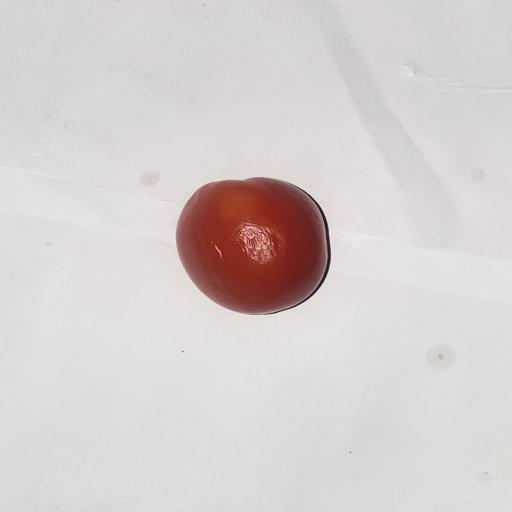overipe: (176, 178, 328, 314)
